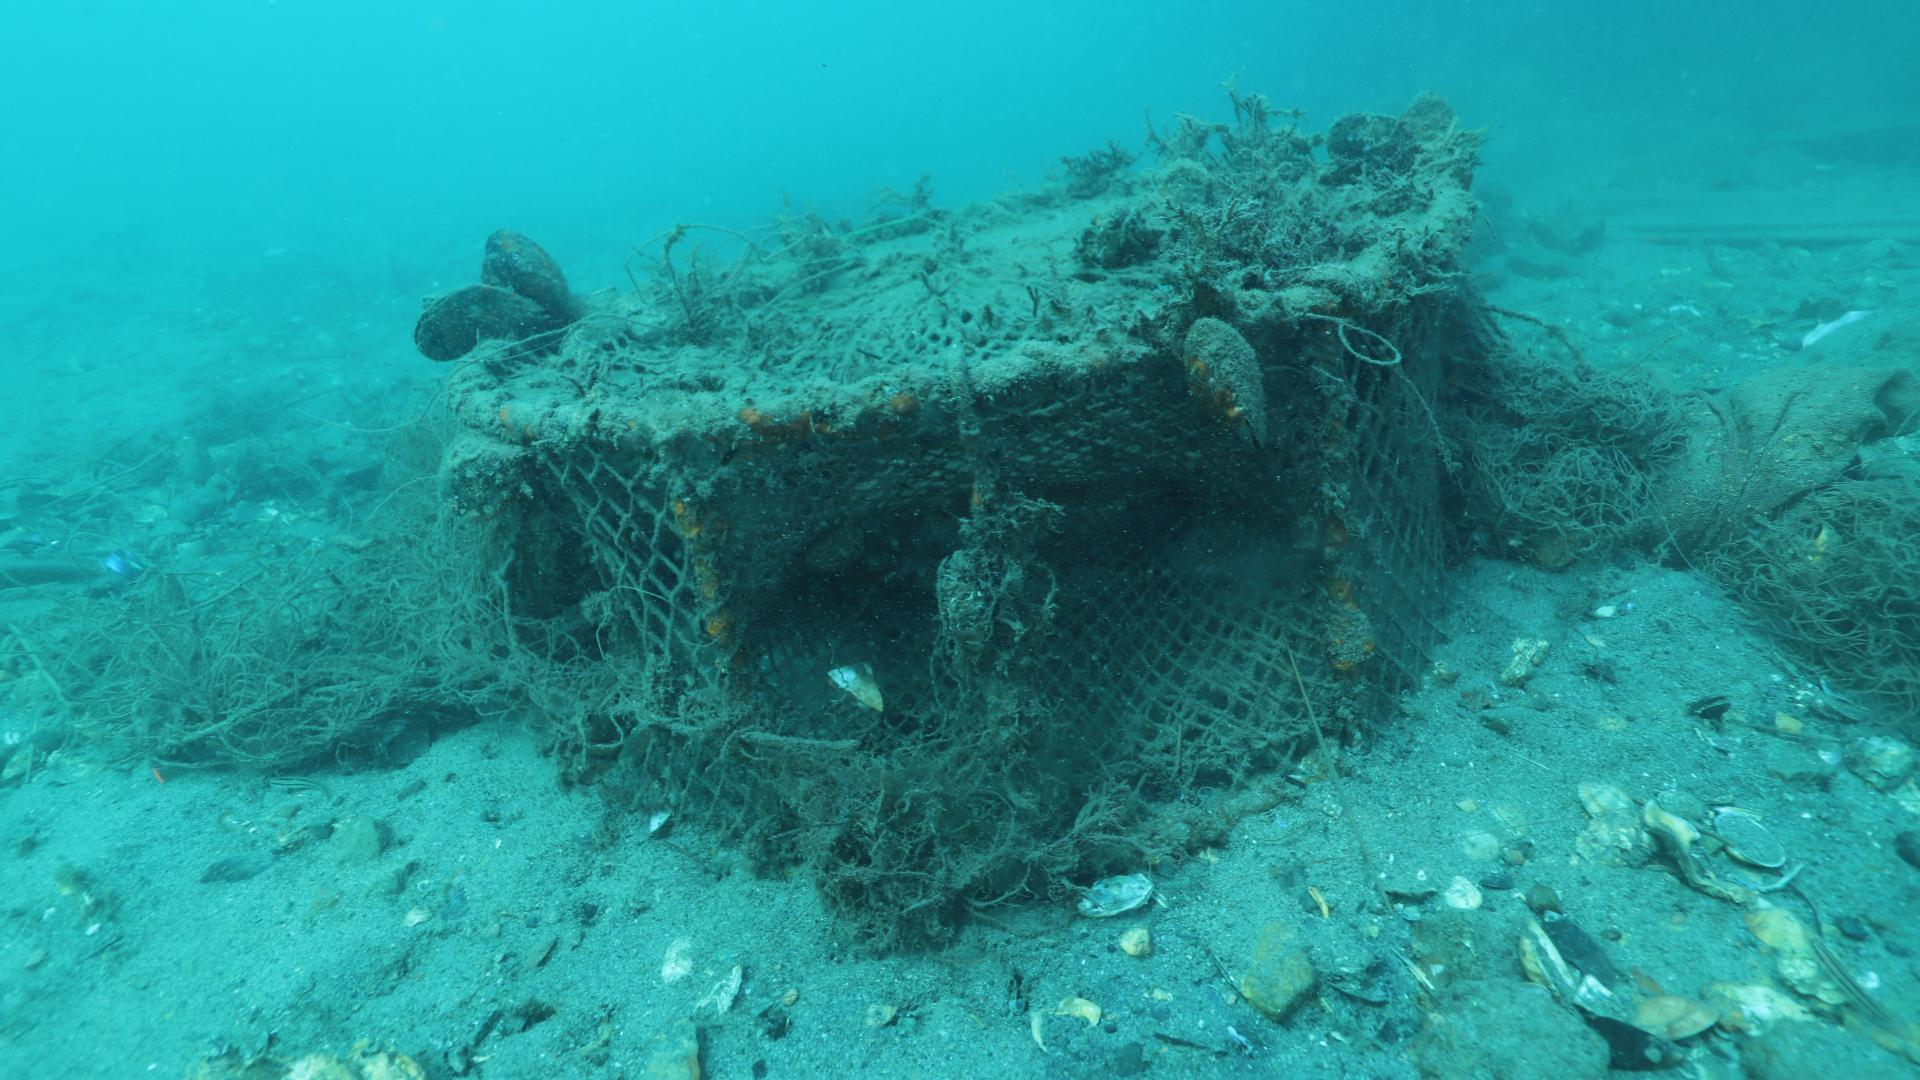circular fish trap: (443, 135, 1472, 886)
